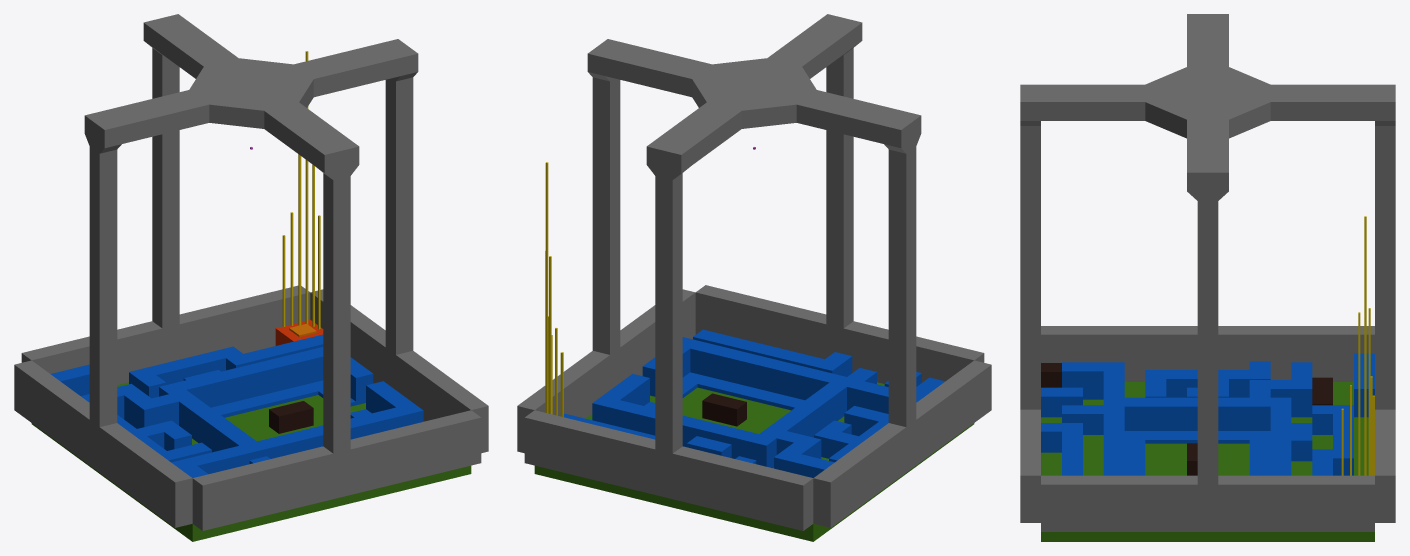
Rendered from world.obj.
3 views of the same model, side by side, from view 1: azimuth 30°, elevation 25°; view 2: azimuth 150°, elevation 25°; view 3: azimuth 270°, elevation 25° (orthographic). The views are drawn at different scales.
Visible parts, largest first — view 1: Wall.105.Boundary_Cube.000, Wall.106.Boundary_Cube.005, Floor.035_Cube.068, Wall.108.Boundary_Cube.003, Floor.032_Cube.067, Wall.004_Cube.064, Wall.001_Cube.061, Wall.003_Cube.063, Wall.107.Boundary_Cube.004, Wall.002_Cube.062, Floor.001_Cube.002, Floor.019_Cube.043 (+17 smaller); view 2: Wall.108.Boundary_Cube.003, Wall.106.Boundary_Cube.005, Wall.105.Boundary_Cube.000, Floor.035_Cube.068, Floor.032_Cube.067, Wall.004_Cube.064, Wall.003_Cube.063, Wall.002_Cube.062, Wall.107.Boundary_Cube.004, Wall.001_Cube.061, Floor.005_Cube.021, Floor.001_Cube.002 (+17 smaller); view 3: Wall.107.Boundary_Cube.004, Wall.106.Boundary_Cube.005, Floor.032_Cube.067, Floor.001_Cube.002, Floor.035_Cube.068, Wall.003_Cube.063, Wall.002_Cube.062, Wall.001_Cube.061, Floor.011_Cube.031, Floor.005_Cube.021, Wall.108.Boundary_Cube.003, Wall.105.Boundary_Cube.000 (+24 smaller).
Boxes of the visible parts, x1,y1,x2,y2 form: Wall.105.Boundary_Cube.000: (192,410,481,530); Wall.106.Boundary_Cube.005: (14,360,192,527); Floor.035_Cube.068: (84,39,418,148); Wall.108.Boundary_Cube.003: (21,285,310,384); Floor.032_Cube.067: (143,14,359,173); Wall.004_Cube.064: (89,130,117,426); Wall.001_Cube.061: (323,158,350,453); Wall.003_Cube.063: (385,77,413,354); Wall.107.Boundary_Cube.004: (310,289,488,453); Wall.002_Cube.062: (152,48,179,328); Floor.001_Cube.002: (31,382,471,541); Floor.019_Cube.043: (159,347,323,407); Wall.108.Boundary_Cube.003: (524,410,813,530); Wall.106.Boundary_Cube.005: (813,360,991,527); Wall.105.Boundary_Cube.000: (695,285,984,383); Floor.035_Cube.068: (587,39,921,148); Floor.032_Cube.067: (646,14,862,173); Wall.004_Cube.064: (888,134,916,426); Wall.003_Cube.063: (592,77,620,354); Wall.002_Cube.062: (655,159,682,453); Wall.107.Boundary_Cube.004: (517,289,695,453); Wall.001_Cube.061: (826,48,853,328); Floor.005_Cube.021: (682,337,924,413); Floor.001_Cube.002: (534,382,974,541); Wall.107.Boundary_Cube.004: (1041,475,1374,531); Wall.106.Boundary_Cube.005: (1041,326,1374,381); Floor.032_Cube.067: (1020,84,1395,120); Floor.001_Cube.002: (1041,382,1374,541); Floor.035_Cube.068: (1187,14,1228,191); Wall.003_Cube.063: (1197,183,1218,484); Wall.002_Cube.062: (1375,126,1395,409); Wall.001_Cube.061: (1020,126,1040,409); Floor.011_Cube.031: (1124,397,1270,430); Floor.005_Cube.021: (1103,362,1124,475); Wall.108.Boundary_Cube.003: (1375,409,1395,522); Wall.105.Boundary_Cube.000: (1020,409,1040,522).
Bounding box in the file's own units: 18 × 20 × 18.
